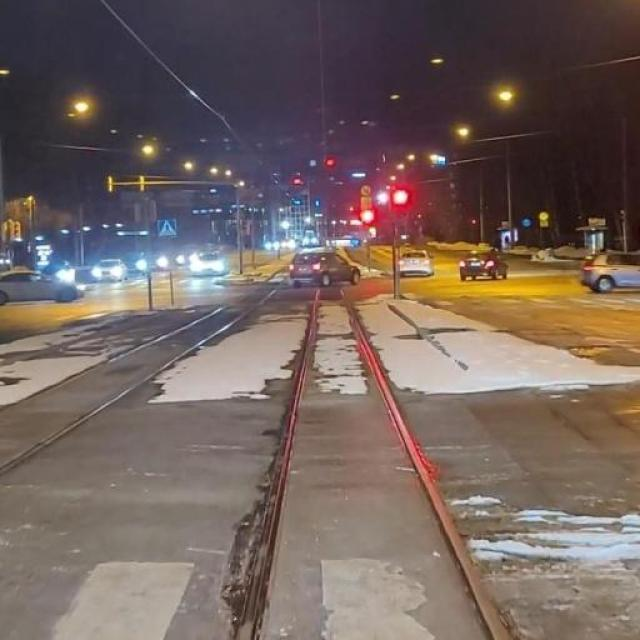vehicle: (288, 243, 367, 292)
